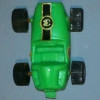verde_norte: (13, 2, 85, 97)
